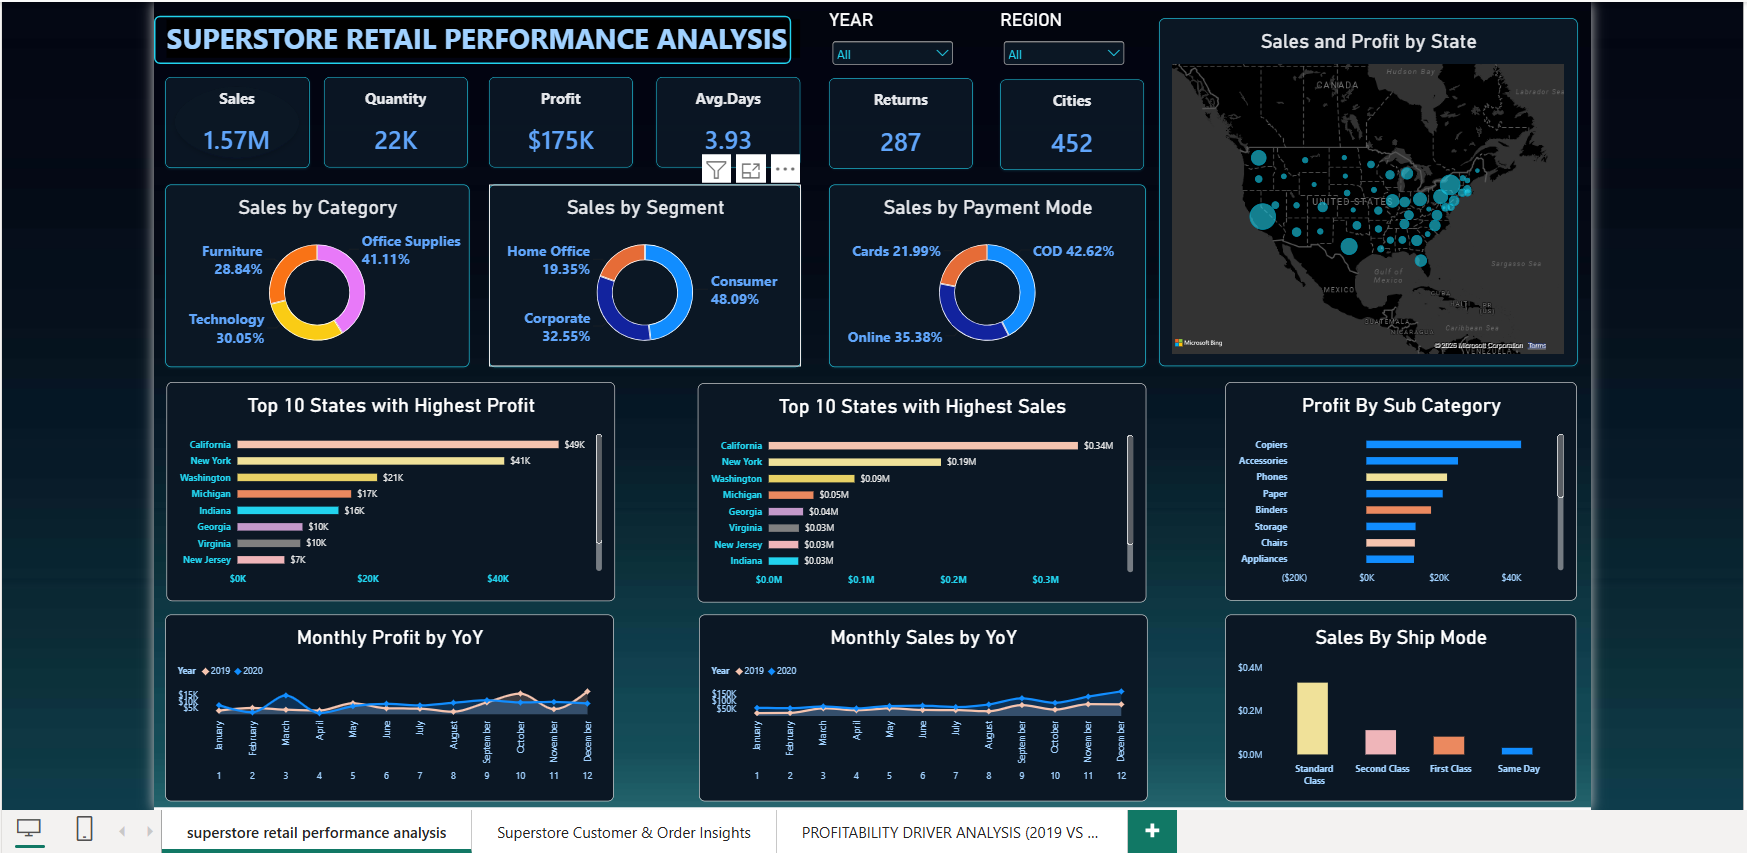

This screenshot's page, from the dashboard's own definition file:
{"tool":"powerbi","page":{"name":"superstore retail performance analysis","canvas":[1920,1080],"ordinal":0},"visuals":[{"type":"cardVisual","fields":{"Data":["Measure Table.Total Sales"]},"box":[14.7,101,192.4,121.9],"z":0},{"type":"cardVisual","fields":{"Data":["Measure Table.Total Quantity"]},"box":[227.6,101,192,121],"z":1000},{"type":"cardVisual","fields":{"Data":["Measure Table.Total Profit"]},"box":[448,100.3,192,121],"z":2000},{"type":"cardVisual","fields":{"Data":["Measure Table.Average Delivery Days"]},"box":[672,100.3,192,121],"z":3000},{"type":"cardVisual","fields":{"Data":["Measure Table.Total Returns"]},"box":[902.4,102.4,192,121],"z":4000},{"type":"cardVisual","fields":{"Data":["Measure Table.Total Cities"]},"box":[1130.2,102.9,192,121],"z":5000},{"type":"donutChart","title":"Sales by Category","fields":{"Category":["SuperStore_Sales_Dataset.Category"],"Y":["Sum(SuperStore_Sales_Dataset.Sales)"]},"box":[14.9,243.2,406.2,243.7],"z":6000},{"type":"donutChart","title":"Sales by Segment","fields":{"Category":["SuperStore_Sales_Dataset.Segment"],"Y":["Sum(SuperStore_Sales_Dataset.Sales)"]},"box":[448,243.2,416.9,243.7],"z":7000},{"type":"donutChart","title":"Sales by Payment Mode","fields":{"Category":["SuperStore_Sales_Dataset.Payment Mode"],"Y":["Sum(SuperStore_Sales_Dataset.Sales)"]},"box":[902.4,243.2,423.3,243.7],"z":8000},{"type":"map","title":"Sales and Profit by State","fields":{"Category":["SuperStore_Sales_Dataset.State"],"Size":["Sum(SuperStore_Sales_Dataset.Sales)"]},"box":[1341.9,21.3,558.9,465.1],"z":9000},{"type":"clusteredBarChart","title":"Top 10 States with Highest Profit","fields":{"Category":["SuperStore_Sales_Dataset.State"],"Y":["Sum(SuperStore_Sales_Dataset.Profit)"]},"box":[16.7,507.6,599,293.2],"z":10000},{"type":"textbox","box":[16.4,22.6,846.2,51.3],"z":11000},{"type":"shape","box":[0,18.5,851.2,64.5],"z":12000},{"type":"clusteredBarChart","title":"Top 10 States with Highest Sales","fields":{"Category":["SuperStore_Sales_Dataset.State"],"Y":["Sum(SuperStore_Sales_Dataset.Sales)"]},"box":[725.7,508.5,599,293.2],"z":13000},{"type":"clusteredBarChart","title":"Profit By Sub Category","fields":{"Category":["SuperStore_Sales_Dataset.Sub-Category"],"Y":["Sum(SuperStore_Sales_Dataset.Profit)"]},"box":[1431.6,507.3,469.3,292.3],"z":14000},{"type":"lineChart","title":"Monthly Profit by YoY","fields":{"Category":["SuperStore_Sales_Dataset.Month Number","SuperStore_Sales_Dataset.Month"],"Series":["SuperStore_Sales_Dataset.Year"],"Y":["Sum(SuperStore_Sales_Dataset.Profit)"]},"box":[14.5,818,599,249.7],"z":15000},{"type":"lineChart","title":"Monthly Sales by YoY","fields":{"Category":["SuperStore_Sales_Dataset.Month Number","SuperStore_Sales_Dataset.Month"],"Series":["SuperStore_Sales_Dataset.Year"],"Y":["Sum(SuperStore_Sales_Dataset.Sales)"]},"box":[727.5,818,599,249.7],"z":16000},{"type":"columnChart","title":"Sales By Ship Mode","fields":{"Category":["SuperStore_Sales_Dataset.Ship Mode"],"Y":["Sum(SuperStore_Sales_Dataset.Sales)"]},"box":[1431.4,818,468.7,249.7],"z":17000},{"type":"slicer","title":"YEAR","fields":{"Values":["SuperStore_Sales_Dataset.Year"]},"box":[901.7,10,170.3,90.2],"z":18000},{"type":"slicer","title":"REGION","fields":{"Values":["SuperStore_Sales_Dataset.Region"]},"box":[1130.4,10,170.3,90.2],"z":19000}]}

Visuals, with their boxes on the page's 1920x1080 design canvas (x1, y1, x2, y2). These are canvas units, not pixel positions in the 1747x853 screenshot, which may show the page scaled, cropped or inside an application window:
cardVisual - Measure Table.Total Sales: 15/101/207/223
cardVisual - Measure Table.Total Quantity: 228/101/420/222
cardVisual - Measure Table.Total Profit: 448/100/640/221
cardVisual - Measure Table.Average Delivery Days: 672/100/864/221
cardVisual - Measure Table.Total Returns: 902/102/1094/223
cardVisual - Measure Table.Total Cities: 1130/103/1322/224
"Sales by Category" donutChart: 15/243/421/487
"Sales by Segment" donutChart: 448/243/865/487
"Sales by Payment Mode" donutChart: 902/243/1326/487
"Sales and Profit by State" map: 1342/21/1901/486
"Top 10 States with Highest Profit" clusteredBarChart: 17/508/616/801
textbox: 16/23/863/74
shape: 0/18/851/83
"Top 10 States with Highest Sales" clusteredBarChart: 726/508/1325/802
"Profit By Sub Category" clusteredBarChart: 1432/507/1901/800
"Monthly Profit by YoY" lineChart: 14/818/614/1068
"Monthly Sales by YoY" lineChart: 728/818/1326/1068
"Sales By Ship Mode" columnChart: 1431/818/1900/1068
"YEAR" slicer: 902/10/1072/100
"REGION" slicer: 1130/10/1301/100
